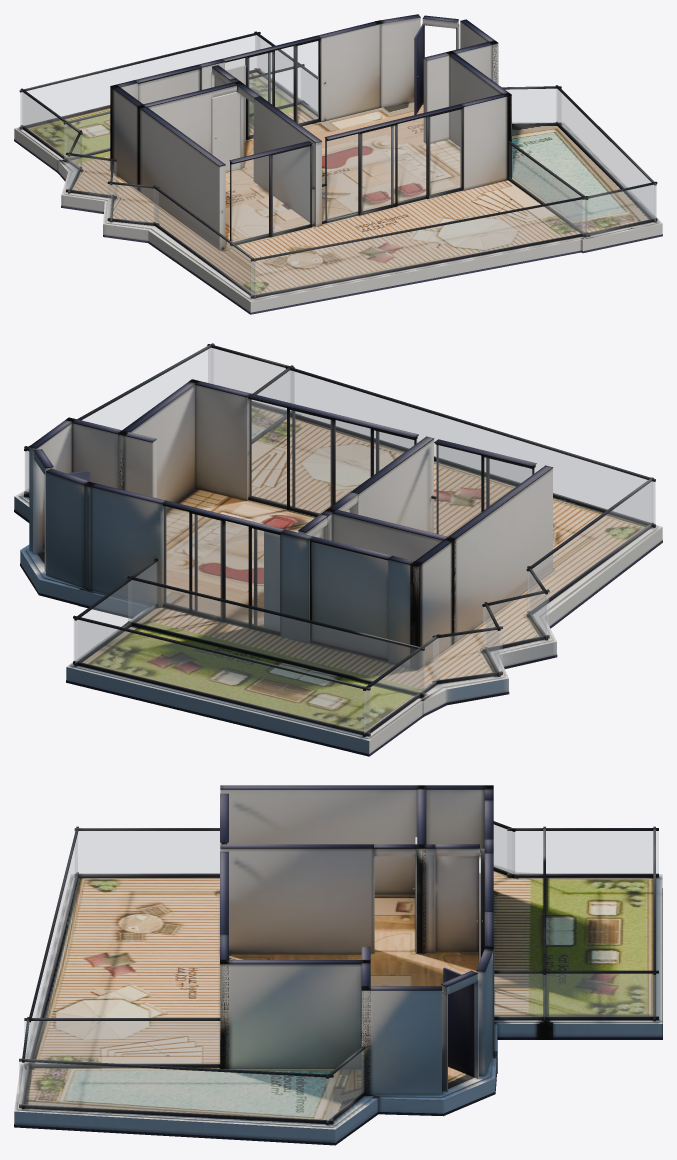
3 renders of one model, top to bottom at view 1: azimuth 30°, elevation 25°; view 2: azimuth 150°, elevation 25°; view 3: azimuth 270°, elevation 25°, orthographic. The views are drawn at different scales.
Parts seen in each view (by area): view 1: plan, railg15_m, glass2_m, glass3_m, railg0_m, glass0_m, railg14_m, railg8_m, railg9_m, railg10_m, railg1_m, railg13_m (+4 smaller); view 2: plan, railg15_m, railg0_m, railg1_m, glass2_m, glass0_m, glass1_m, railg14_m, glass3_m, railg8_m, railg11_m, railg13_m (+5 smaller); view 3: plan, railg8_m, railg10_m, railg11_m, railg13_m, railg14_m, railg15_m, railg7_m, railg19_m.
Part boxes in pixels (x1,y1,x2,y2): plan: (14,14,662,314); railg15_m: (251,199,584,295); glass2_m: (326,110,461,220); glass3_m: (231,146,309,242); railg0_m: (20,35,259,126); glass0_m: (225,41,318,135); railg14_m: (154,189,255,295); railg8_m: (557,89,655,219); railg9_m: (582,185,656,233); railg10_m: (509,144,587,234); railg1_m: (64,68,300,158); railg13_m: (22,92,81,168); plan: (14,343,662,756); railg15_m: (287,370,655,524); railg0_m: (74,620,369,732); railg1_m: (128,580,424,693); glass2_m: (249,399,413,513); glass0_m: (164,506,279,631); glass1_m: (312,542,387,638); railg14_m: (527,482,652,613); glass3_m: (436,445,534,536); railg8_m: (25,348,212,493); railg11_m: (75,562,156,663); railg13_m: (364,638,438,733); plan: (14,785,662,1145); railg8_m: (19,1062,332,1120); railg10_m: (24,1021,219,1063); railg11_m: (494,974,658,1016); railg13_m: (507,831,658,873); railg14_m: (75,831,219,873); railg15_m: (29,835,77,1058); railg7_m: (327,1050,363,1121); railg19_m: (494,825,514,874).
Size of the model in its own units: 12.69 by 2.62 by 12.64.
2 materials, 1 textured.
